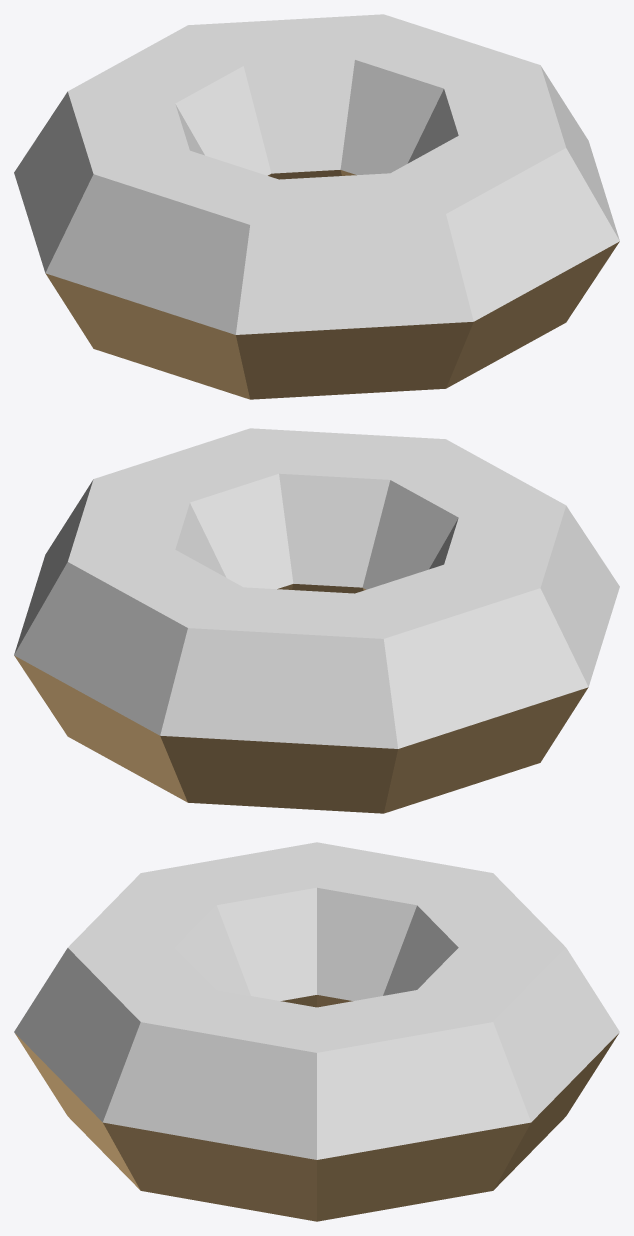
The model's file is C_Donut_2.fbx.
The picture shows the model from 3 angles, top to bottom: view 1: azimuth 30°, elevation 25°; view 2: azimuth 150°, elevation 25°; view 3: azimuth 270°, elevation 25°; orthographic projection. The views are drawn at different scales.
Parts seen in each view (by area): view 1: C_Donut_2; view 2: C_Donut_2; view 3: C_Donut_2.
Boxes of the visible parts, x1,y1,x2,y2 form: C_Donut_2: (14, 14, 619, 399); C_Donut_2: (14, 428, 619, 813); C_Donut_2: (14, 842, 619, 1221).
Bounding box in the file's own units: 91.75 × 91.75 × 28.19.
